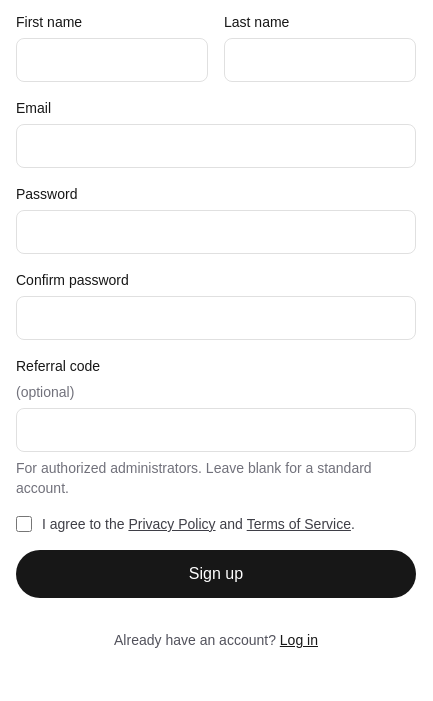
Test: SignupPage › requires a first and last name before creating an account
This screenshot has width=433, height=701.
(page scrolled)
Click the button "Sign up": click(216, 574) [16, 550, 416, 598]
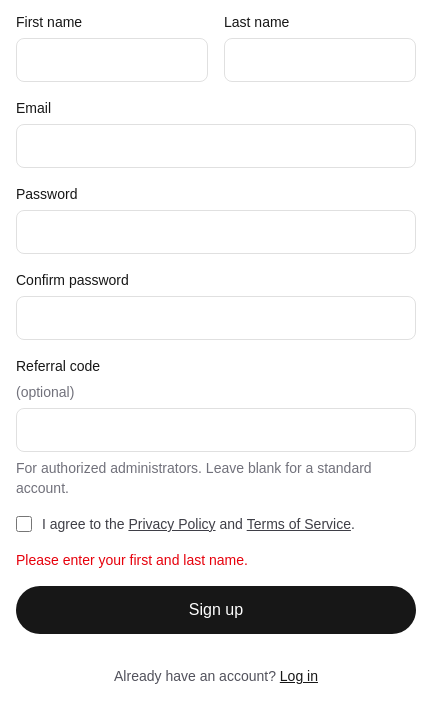
expect the message reads "Please enter your first and last name.": met, box [16, 552, 248, 568]
